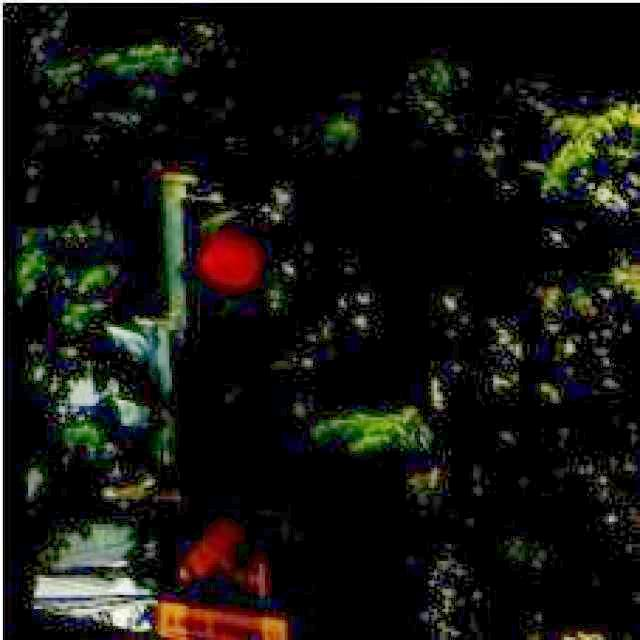red: (171, 203, 281, 478)
